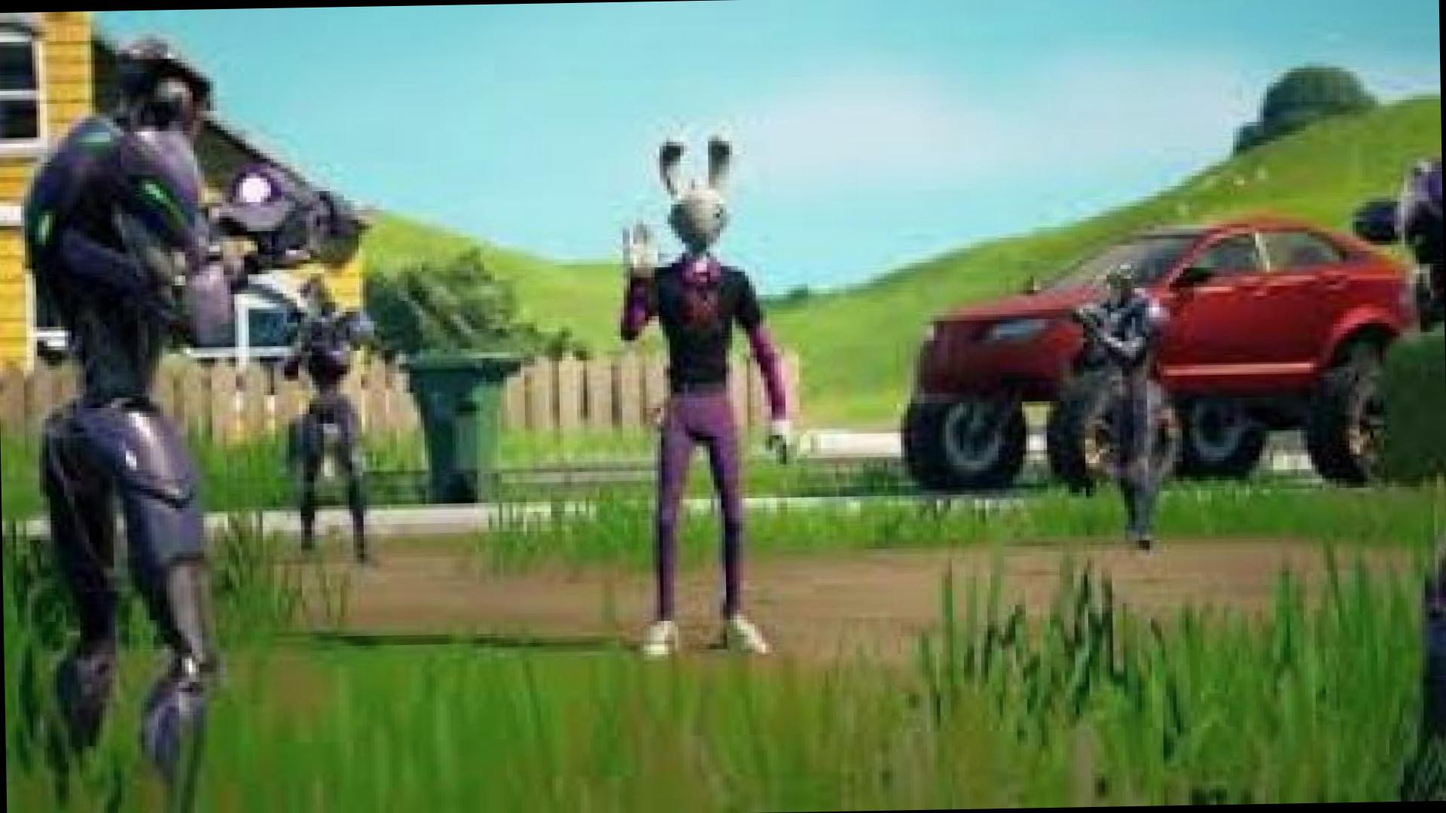player: (60, 62, 236, 800), (618, 150, 770, 690), (291, 288, 358, 533), (1103, 277, 1157, 577)
